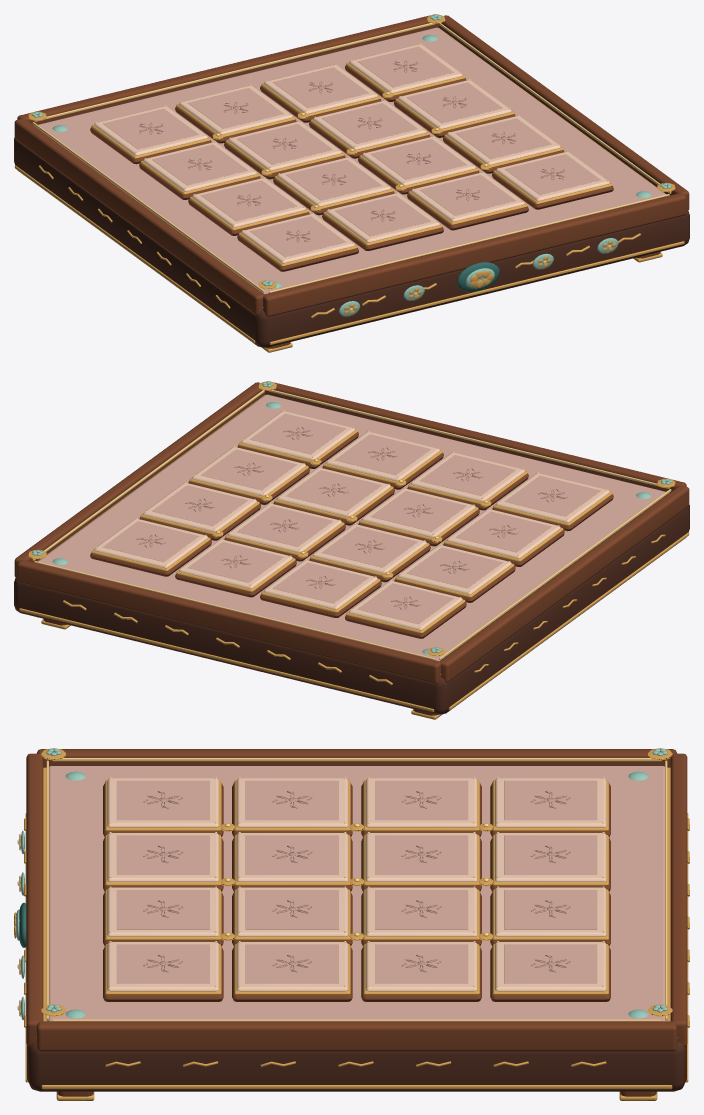
The model's file is board-4x4.glb.
3 renders of one model, top to bottom at view 1: azimuth 30°, elevation 25°; view 2: azimuth 150°, elevation 25°; view 3: azimuth 270°, elevation 25°, orthographic. The views are drawn at different scales.
Parts seen in each view (by area): view 1: board-4x4 | merged material | 06 | creamy rose sandstone por, board-4x4 | merged material | 02 | sculpted raised red sanda, board-4x4 | merged material | 07 | warmly translucent porcel, board-4x4 | merged material | 01 | dark warm lacquered rosew, board-4x4 | merged material | 04 | warm aged imperial gilt, board-4x4 | merged material | 05 | finely burnished pale gol, board-4x4 | merged material | 08 | gentle engraved flower ed, board-4x4 | merged material | 09 | mint celadon inset, board-4x4 | merged material | 10 | jade inset rim; view 2: board-4x4 | merged material | 06 | creamy rose sandstone por, board-4x4 | merged material | 02 | sculpted raised red sanda, board-4x4 | merged material | 07 | warmly translucent porcel, board-4x4 | merged material | 01 | dark warm lacquered rosew, board-4x4 | merged material | 04 | warm aged imperial gilt, board-4x4 | merged material | 05 | finely burnished pale gol, board-4x4 | merged material | 08 | gentle engraved flower ed, board-4x4 | merged material | 09 | mint celadon inset; view 3: board-4x4 | merged material | 06 | creamy rose sandstone por, board-4x4 | merged material | 02 | sculpted raised red sanda, board-4x4 | merged material | 07 | warmly translucent porcel, board-4x4 | merged material | 01 | dark warm lacquered rosew, board-4x4 | merged material | 04 | warm aged imperial gilt, board-4x4 | merged material | 05 | finely burnished pale gol, board-4x4 | merged material | 08 | gentle engraved flower ed, board-4x4 | merged material | 09 | mint celadon inset.
Boxes of the visible parts, x1=… form: board-4x4 | merged material | 06 | creamy rose sandstone por: x1=35, y1=27, x2=665, y2=294; board-4x4 | merged material | 02 | sculpted raised red sanda: x1=14, y1=14, x2=689, y2=348; board-4x4 | merged material | 07 | warmly translucent porcel: x1=94, y1=44, x2=609, y2=263; board-4x4 | merged material | 01 | dark warm lacquered rosew: x1=14, y1=138, x2=689, y2=347; board-4x4 | merged material | 04 | warm aged imperial gilt: x1=14, y1=14, x2=684, y2=352; board-4x4 | merged material | 05 | finely burnished pale gol: x1=32, y1=23, x2=671, y2=311; board-4x4 | merged material | 08 | gentle engraved flower ed: x1=139, y1=60, x2=564, y2=242; board-4x4 | merged material | 09 | mint celadon inset: x1=31, y1=14, x2=671, y2=316; board-4x4 | merged material | 10 | jade inset rim: x1=457, y1=262, x2=499, y2=291; board-4x4 | merged material | 06 | creamy rose sandstone por: x1=38, y1=394, x2=668, y2=661; board-4x4 | merged material | 02 | sculpted raised red sanda: x1=14, y1=381, x2=689, y2=715; board-4x4 | merged material | 07 | warmly translucent porcel: x1=94, y1=411, x2=609, y2=630; board-4x4 | merged material | 01 | dark warm lacquered rosew: x1=14, y1=505, x2=689, y2=714; board-4x4 | merged material | 04 | warm aged imperial gilt: x1=19, y1=381, x2=689, y2=719; board-4x4 | merged material | 05 | finely burnished pale gol: x1=32, y1=390, x2=671, y2=660; board-4x4 | merged material | 08 | gentle engraved flower ed: x1=136, y1=427, x2=567, y2=609; board-4x4 | merged material | 09 | mint celadon inset: x1=32, y1=381, x2=672, y2=655; board-4x4 | merged material | 06 | creamy rose sandstone por: x1=47, y1=766, x2=666, y2=1021; board-4x4 | merged material | 02 | sculpted raised red sanda: x1=26, y1=749, x2=687, y2=1096; board-4x4 | merged material | 07 | warmly translucent porcel: x1=107, y1=778, x2=606, y2=991; board-4x4 | merged material | 01 | dark warm lacquered rosew: x1=27, y1=1041, x2=686, y2=1091; board-4x4 | merged material | 04 | warm aged imperial gilt: x1=14, y1=748, x2=689, y2=1100; board-4x4 | merged material | 05 | finely burnished pale gol: x1=17, y1=758, x2=667, y2=1021; board-4x4 | merged material | 08 | gentle engraved flower ed: x1=143, y1=791, x2=570, y2=972; board-4x4 | merged material | 09 | mint celadon inset: x1=16, y1=748, x2=667, y2=1019.
Size of the model in its own units: 5.49 by 0.883 by 5.57.
